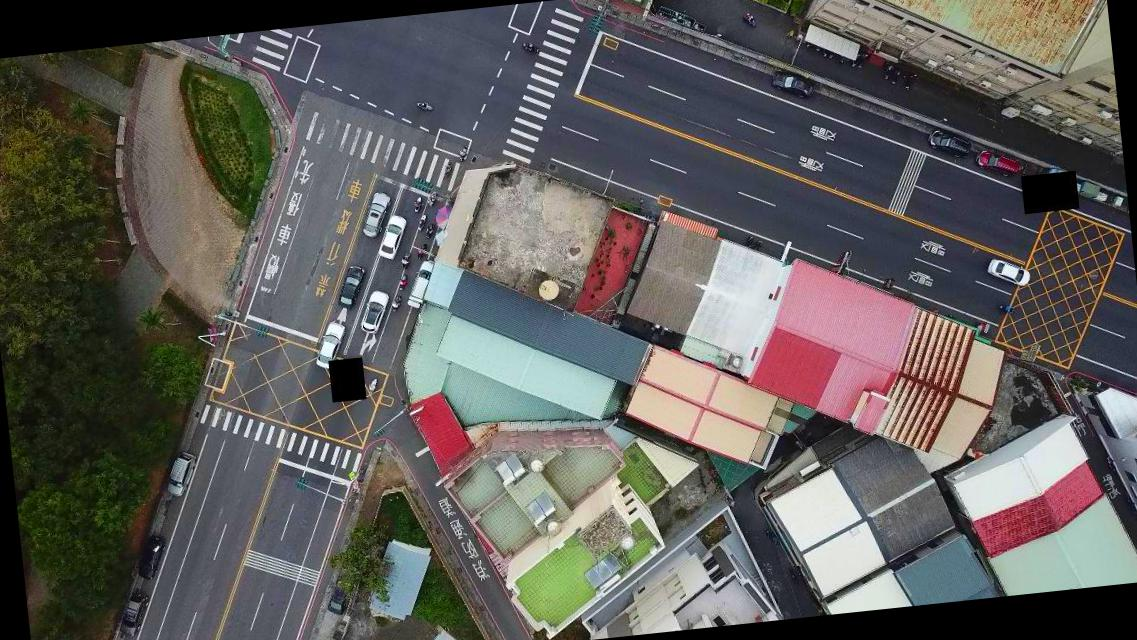vehicle: (162, 449, 202, 499), (356, 190, 396, 238), (402, 258, 440, 308), (372, 213, 412, 260), (114, 590, 153, 638), (312, 320, 350, 368), (323, 568, 360, 616), (927, 123, 973, 161), (356, 288, 394, 334), (987, 254, 1034, 290), (975, 144, 1022, 180), (135, 534, 170, 582), (334, 264, 368, 310), (768, 68, 815, 100)
